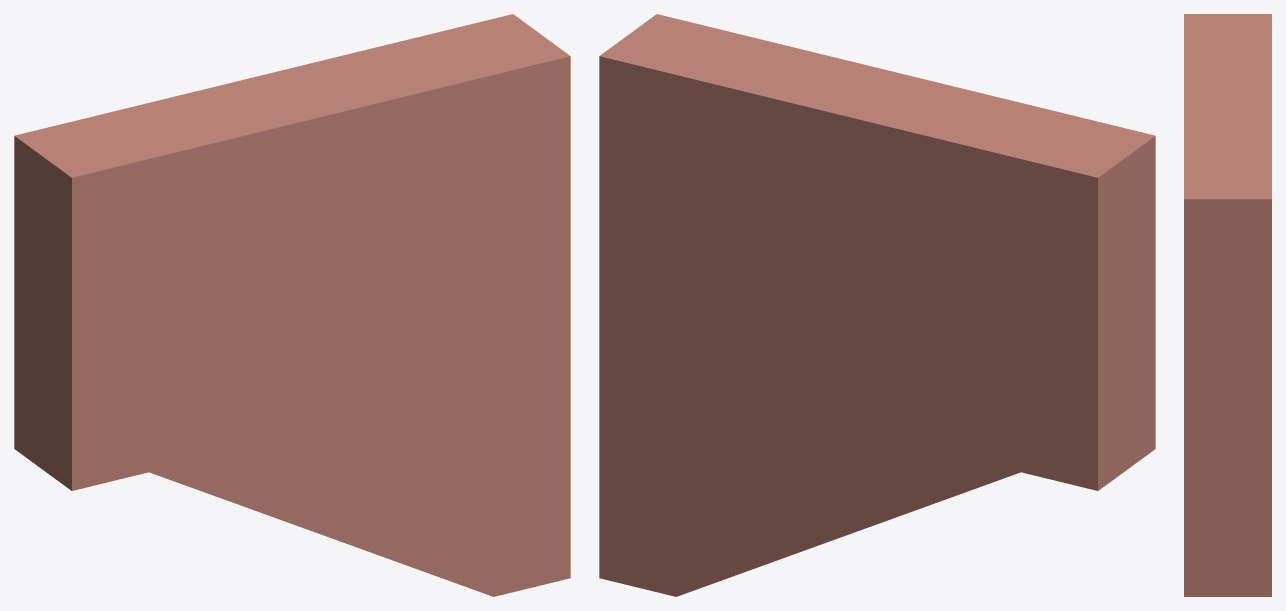
Rendered from BasicWall1x5LiftedEdge.fbx.
The picture shows the model from 3 angles, left to right: view 1: azimuth 30°, elevation 25°; view 2: azimuth 150°, elevation 25°; view 3: azimuth 270°, elevation 25°; orthographic projection. The views are drawn at different scales.
Parts seen in each view (by area): view 1: BasicWall1x5LiftedEdge.002; view 2: BasicWall1x5LiftedEdge.002; view 3: BasicWall1x5LiftedEdge.002.
Part boxes in pixels (x1=…): BasicWall1x5LiftedEdge.002: x1=14, y1=14, x2=570, y2=596; BasicWall1x5LiftedEdge.002: x1=599, y1=14, x2=1155, y2=596; BasicWall1x5LiftedEdge.002: x1=1184, y1=14, x2=1271, y2=596.
Bounding box in the file's own units: 500 × 500 × 100.
